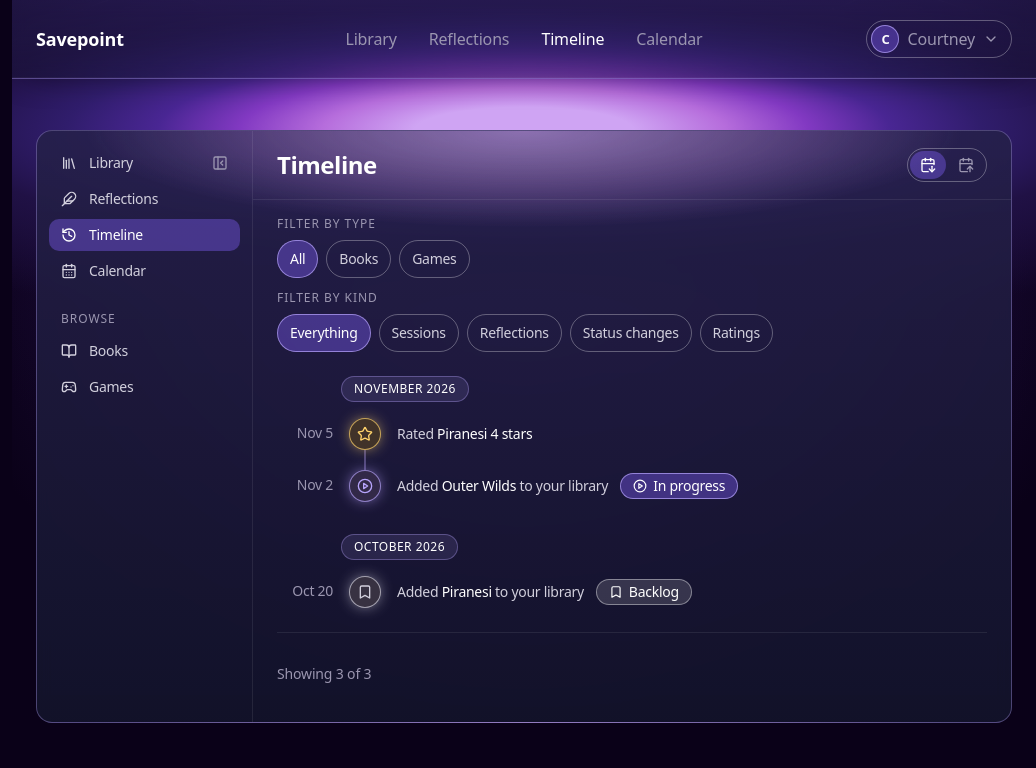
TimelinePage › links each item’s name to its page
This screenshot has width=1036, height=768.
Click the link "Outer Wilds".
click(479, 486)  # box [442,476,516,495]
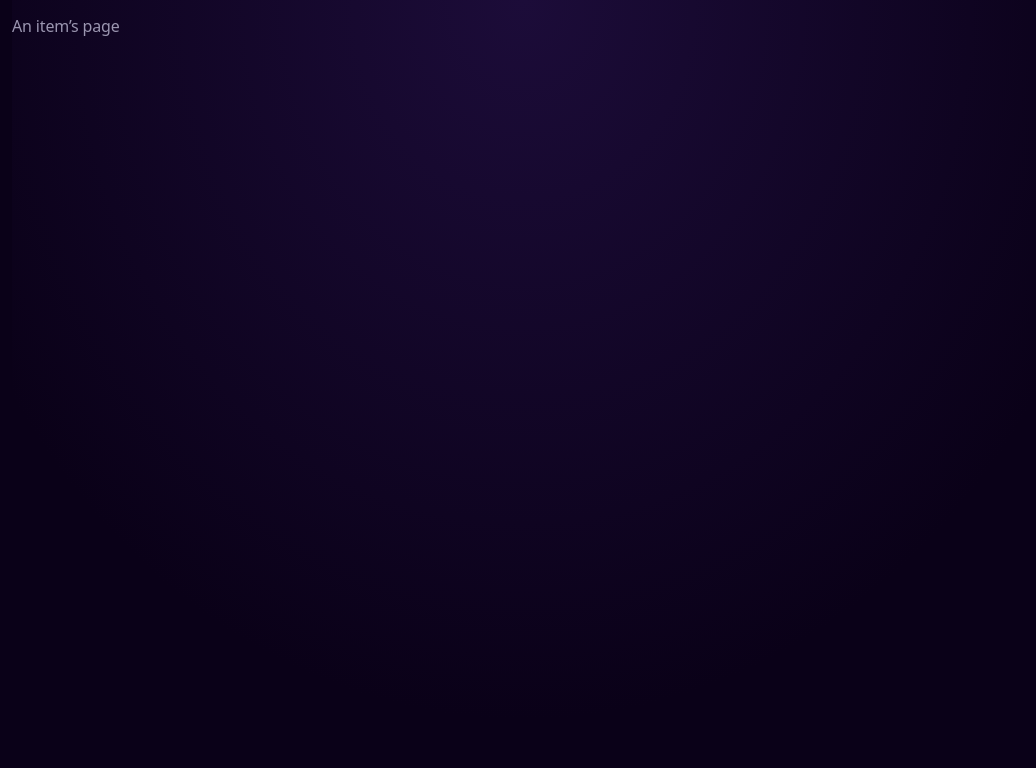
Now the text "An item’s page" is shown, box [12,15,120,37]
